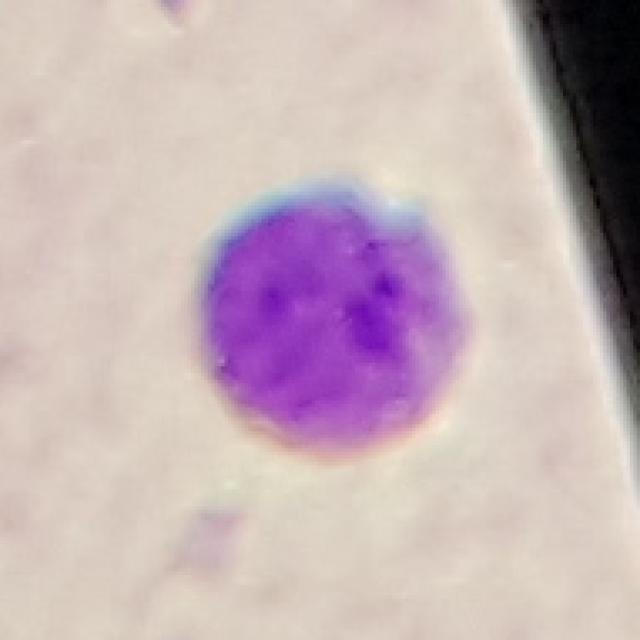non-sperm: (195, 188, 469, 463)
